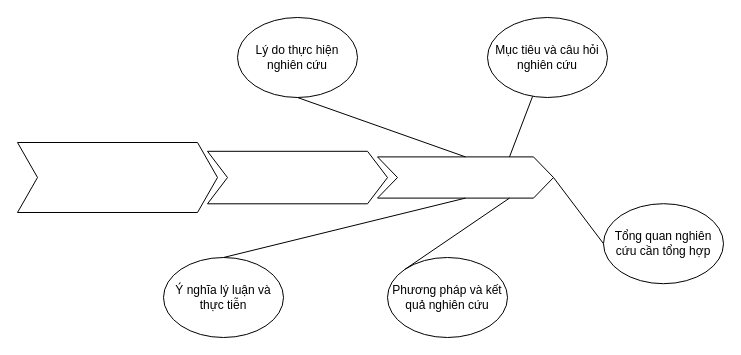
This 741x355 diagram has some shape labels left out. Here are the shapes that lost their labels. From the top down, the centre of each, then its label:
point (117, 177): Phương pháp luận nghiên cứu khoa học
point (297, 177): Quy trình nghiên cứu khoa học
point (465, 177): Báo cáo kết quả nghiên cứu
